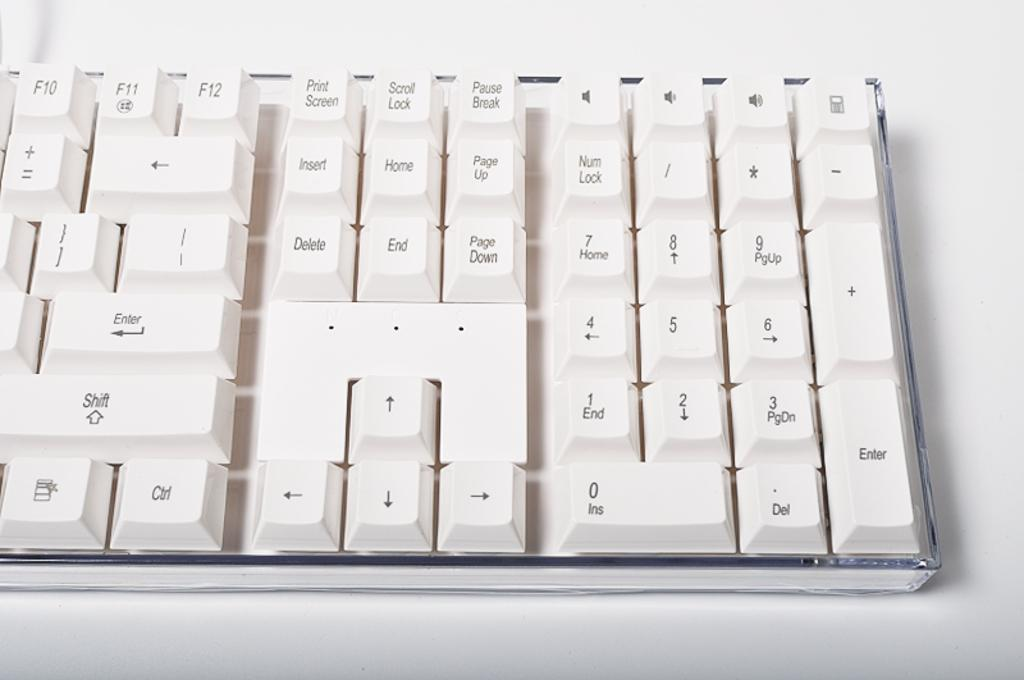Computer-keyboard: (0, 68, 941, 593)
